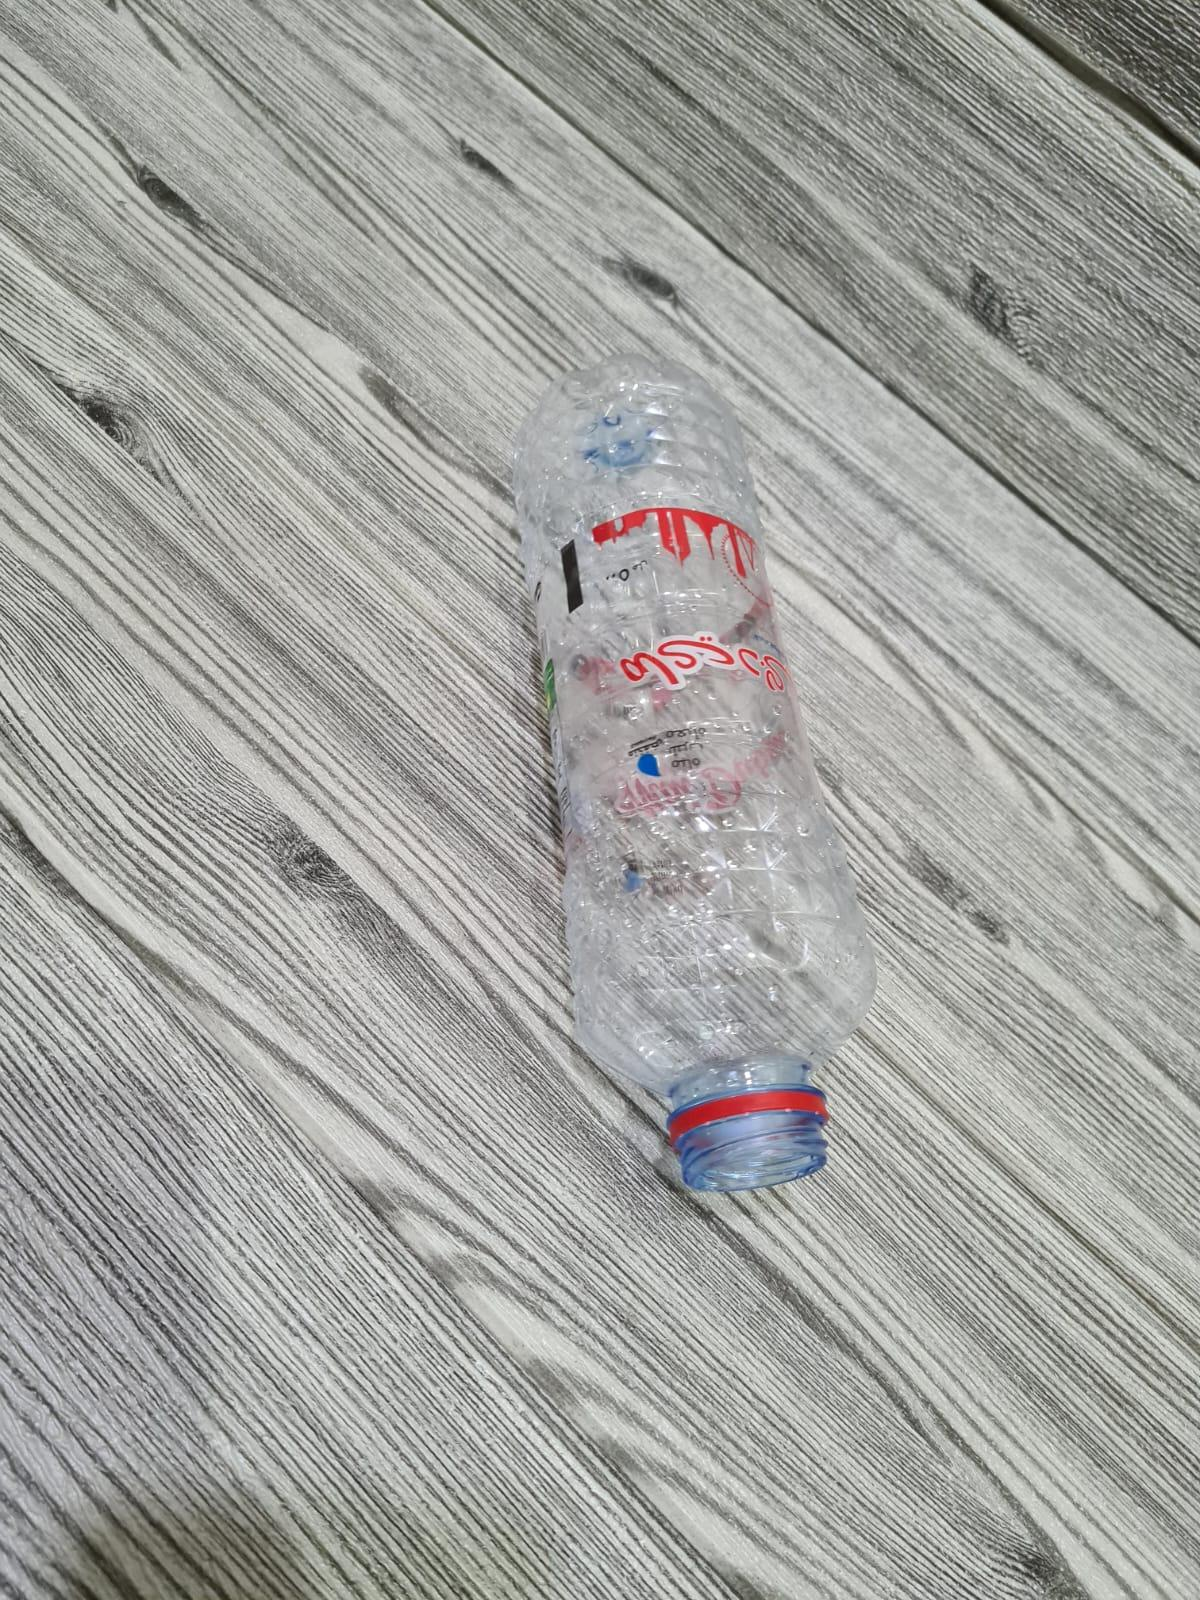bottle: (518, 370, 853, 1188)
